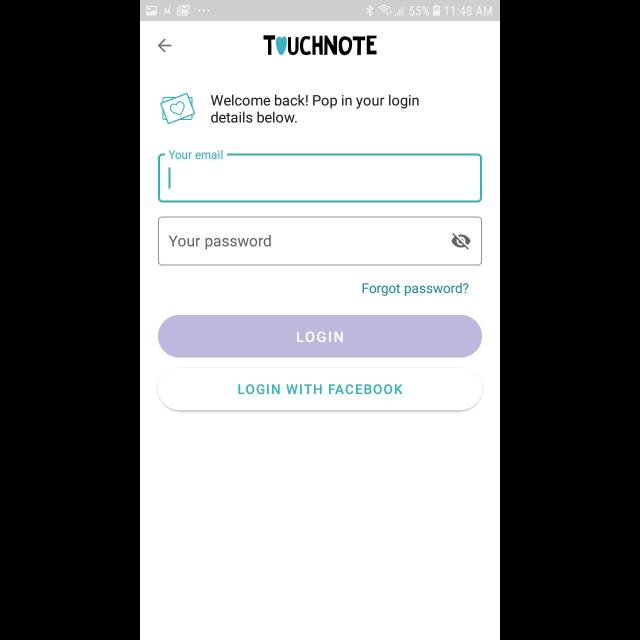icon: (452, 233, 471, 250), (158, 39, 172, 53)
image: (264, 36, 376, 56), (160, 94, 196, 125)
input: (158, 150, 482, 202), (158, 217, 482, 266)
text: (211, 95, 419, 124), (168, 234, 272, 250), (363, 283, 469, 297), (168, 150, 224, 160)
textbutton: (158, 366, 482, 410), (158, 314, 482, 358)
uppertaskbar: (140, 1, 500, 22)
